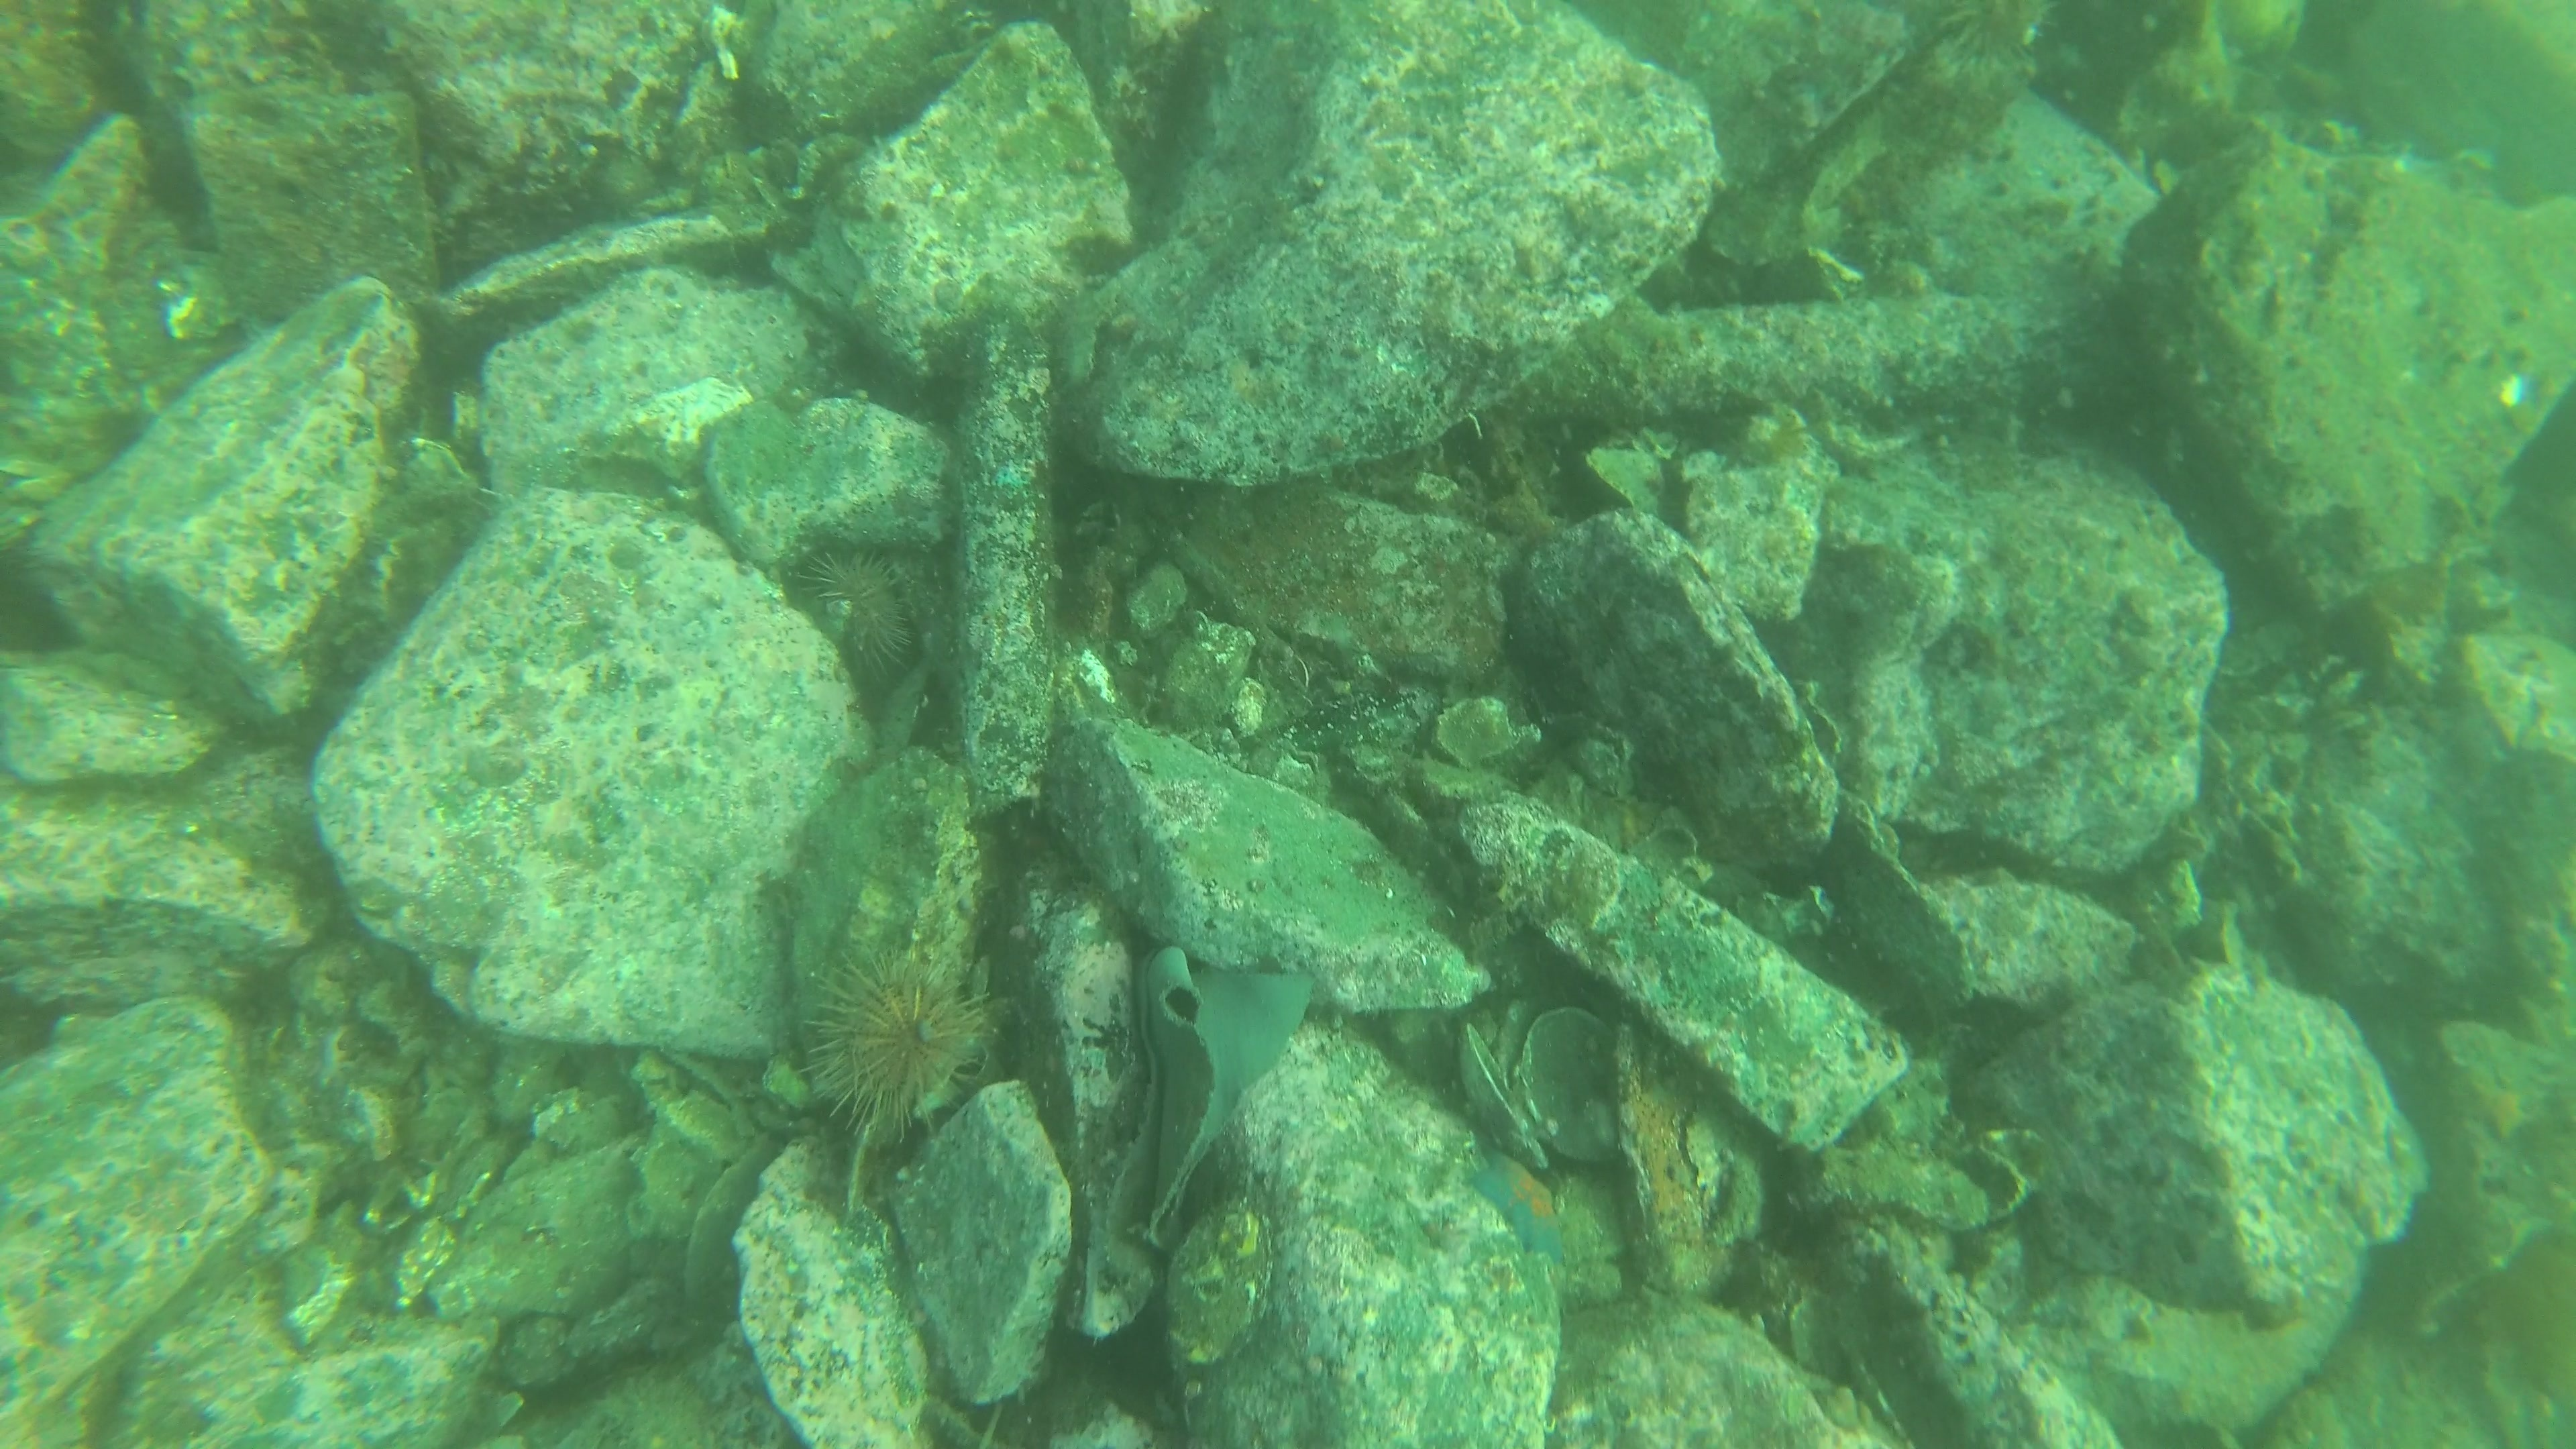echinus: (803, 945, 1001, 1131), (778, 534, 927, 694), (1921, 2, 2066, 76)
starfish: (1460, 1143, 1583, 1269)
